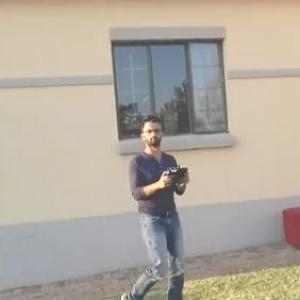follow: (120, 111, 198, 299)
